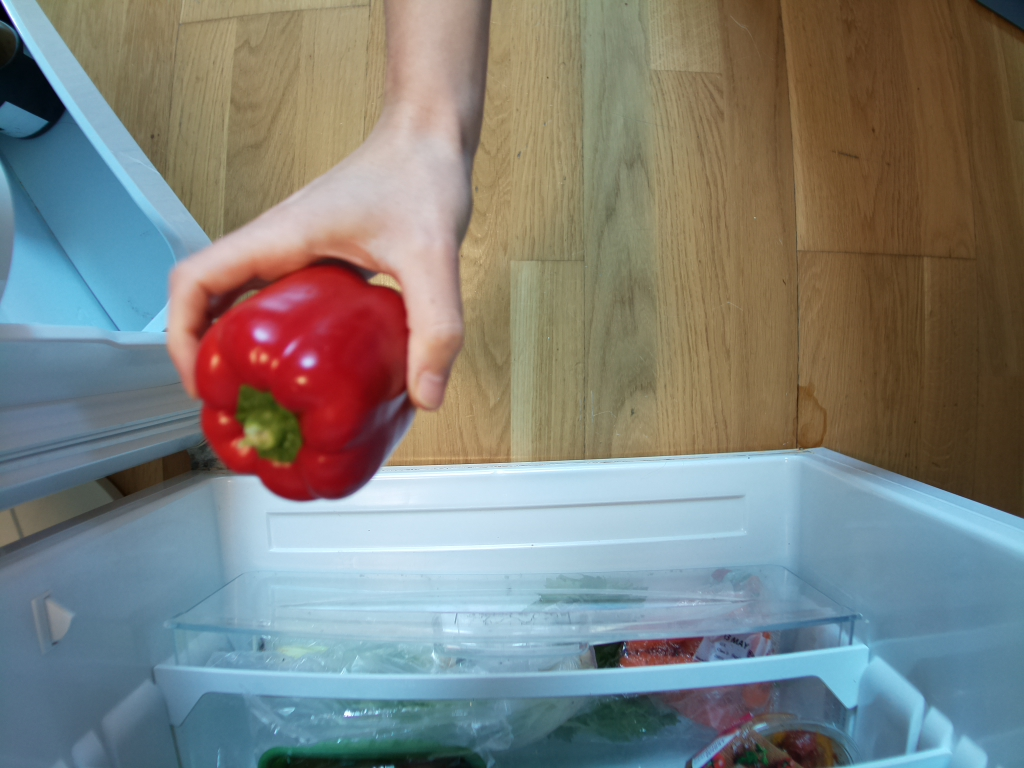pepper: (186, 264, 422, 503)
